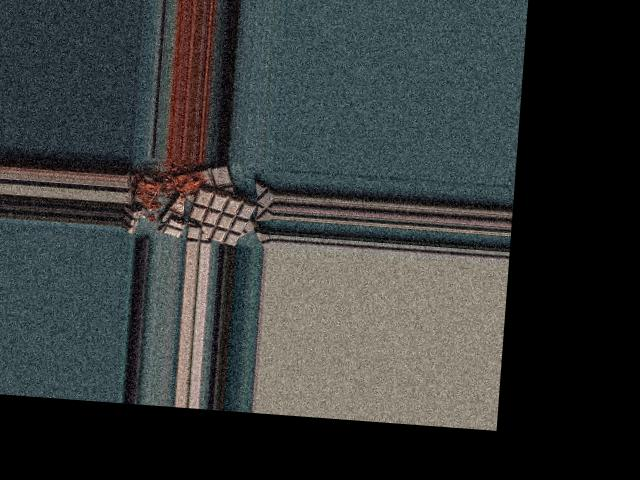chocolate: (188, 186, 259, 247)
